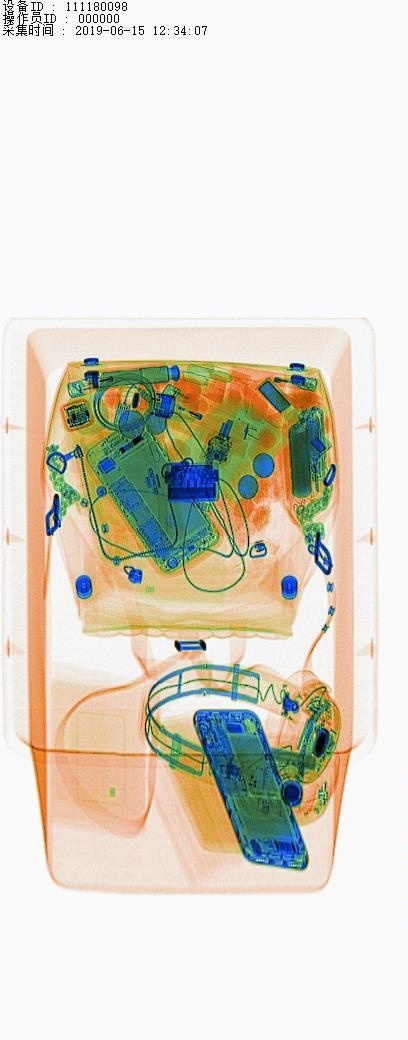NonmetallicFire: (153, 375, 242, 439), (239, 363, 335, 404), (62, 361, 148, 401)
